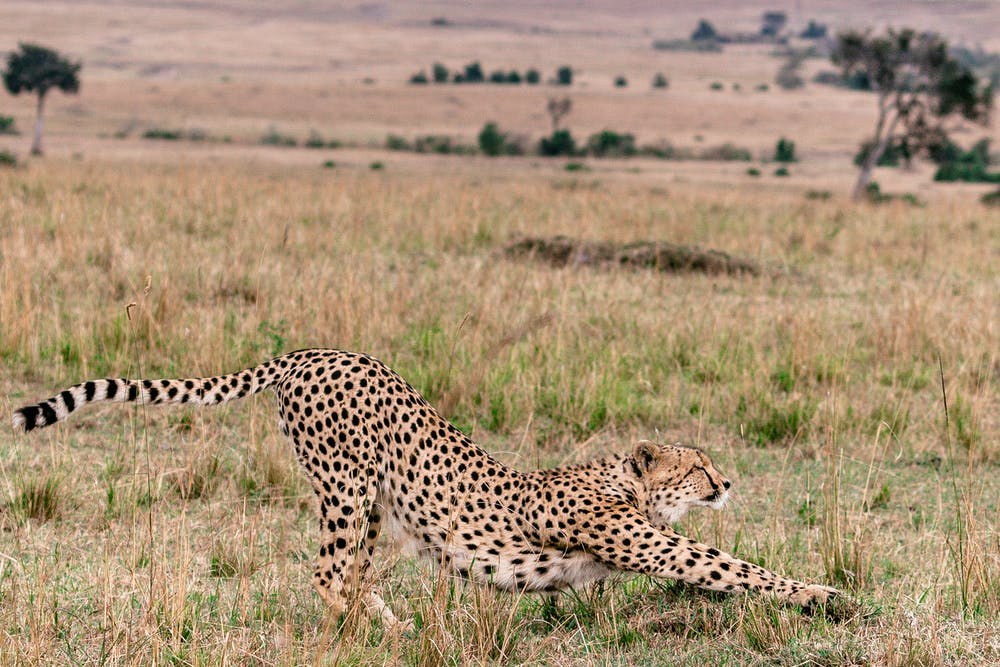cheetah: (624, 430, 745, 518)
